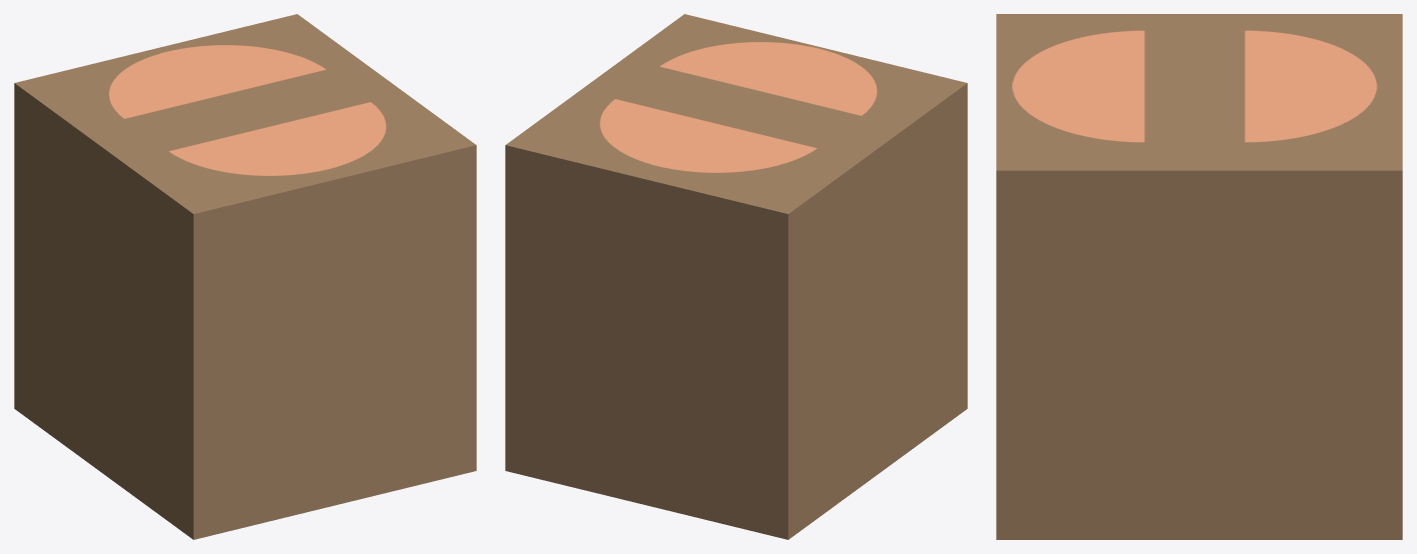
The model's file is bread_box.glb.
3 views of the same model, side by side, from view 1: azimuth 30°, elevation 25°; view 2: azimuth 150°, elevation 25°; view 3: azimuth 270°, elevation 25° (orthographic). The views are drawn at different scales.
Visible parts, largest first — view 1: Cube.039, Group 17; view 2: Cube.039, Group 17; view 3: Cube.039, Group 17.
Boxes of the visible parts, x1,y1,x2,y2 form: Cube.039: [14, 14, 476, 539]; Group 17: [108, 45, 386, 175]; Cube.039: [505, 14, 967, 539]; Group 17: [599, 42, 877, 172]; Cube.039: [996, 14, 1402, 539]; Group 17: [1012, 30, 1377, 142].
Bounding box in the file's own units: 1.78 × 1.99 × 1.95.
2 materials, 1 textured.
